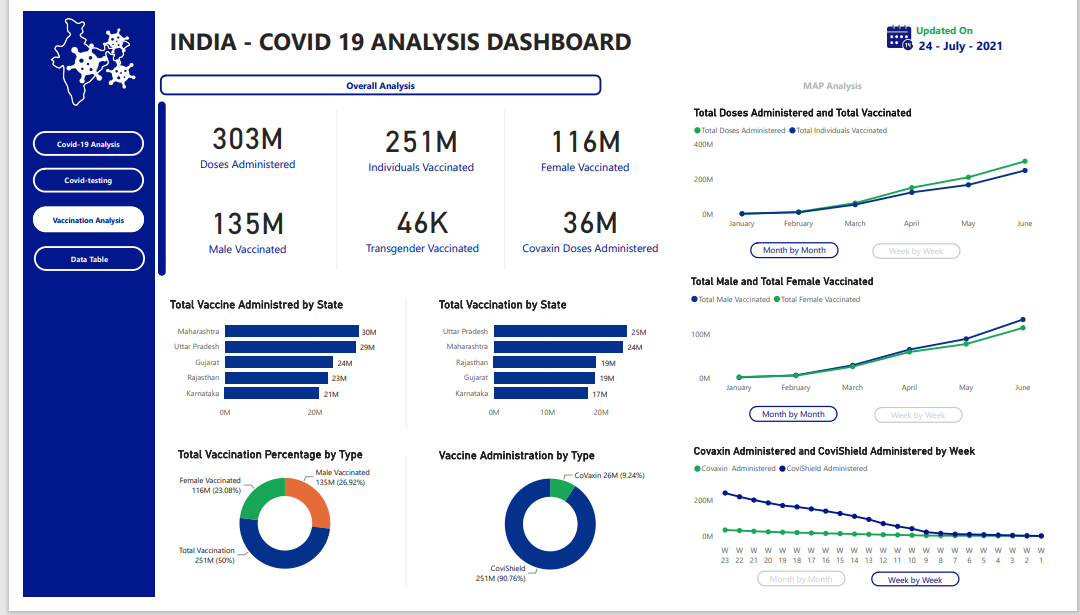

What the dashboard file says about the page in this screenshot:
{"tool":"powerbi","page":{"name":"CovidVaccineDemo1","canvas":[1664,936],"ordinal":2},"visuals":[{"type":"shape","box":[0,0,211,936],"z":0},{"type":"image","box":[57.8,13.2,135.7,126],"z":0,"group":"g1"},{"type":"actionButton","title":"TDoseW-Inactive","box":[1357.9,371.2,141.3,25.4],"z":0,"group":"g3"},{"type":"actionButton","title":"CovidVaccinebtn-M1","box":[1162.3,633.2,141.4,25.7],"z":0,"group":"g6"},{"type":"image","box":[24.6,3.3,167.4,155.7],"z":1000,"group":"g1"},{"type":"actionButton","title":"TotalVaacineW-Iactive","box":[1163,370.6,141.4,25.7],"z":1000,"group":"g2"},{"type":"actionButton","title":"VaccineM-W-Inactive","box":[1362.6,634,141.4,25.7],"z":1000,"group":"g7"},{"type":"actionButton","title":"Covxin-Inactive","box":[1174.6,896,141.4,25.4],"z":1000,"group":"g4"},{"type":"actionButton","title":"CovxinW-Active","box":[1357.1,896.3,141.3,23.8],"z":1000,"group":"g5"},{"type":"shape","box":[218.8,0,1435.9,93.8],"z":4000},{"type":"shape","box":[218.8,142.2,823.4,284.4],"z":6000},{"type":"shape","box":[1056.2,142.2,598.4,262.5],"z":7000},{"type":"shape","box":[1056.2,412.5,598.4,257.8],"z":8000},{"type":"shape","box":[1057.8,678.1,596.9,257.8],"z":9000},{"type":"shape","box":[218,441,824.6,495.1],"z":10000},{"type":"card","fields":{"Values":["Sum(covid_vaccine_statewise.Total Doses Administered)"]},"box":[229.5,149.2,259,121.3],"z":11000},{"type":"card","fields":{"Values":["Sum(covid_vaccine_statewise.Total Individuals Vaccinated)"]},"box":[517.5,159.4,239.7,111.1],"z":12000},{"type":"card","fields":{"Values":["Sum(covid_vaccine_statewise.Female(Individuals Vaccinated))"]},"box":[782,159,234.4,111.5],"z":13000},{"type":"card","fields":{"Values":["Sum(covid_vaccine_statewise.Transgender(Individuals Vaccinated))"]},"box":[518,283.6,244.3,119.7],"z":14000},{"type":"card","fields":{"Values":["Sum(covid_vaccine_statewise.Male(Individuals Vaccinated))"]},"box":[230.2,282.5,258.7,127],"z":15000},{"type":"clusteredBarChart","fields":{"Category":["covid_vaccine_statewise.State"],"Y":["Vaccine Measure.Total Vaccine Administred"]},"box":[229.5,459,352.5,201.6],"z":16000},{"type":"clusteredBarChart","fields":{"Category":["covid_vaccine_statewise.State"],"Y":["Vaccine Measure.Total Vaccination"]},"box":[660.7,459,355.7,201.6],"z":17000},{"type":"donutChart","title":"Total Vaccination Percentage  by  Type","fields":{"Y":["Sum(covid_vaccine_statewise.Male(Individuals Vaccinated))","Vaccine Measure.Total Vaccination","Sum(covid_vaccine_statewise.Female(Individuals Vaccinated))"]},"box":[242.6,698.4,352.5,221.3],"z":18000},{"type":"donutChart","title":"Vaccine Administration by Type","fields":{"Y":["Sum(covid_vaccine_statewise. Covaxin (Doses Administered))","Sum(covid_vaccine_statewise.CoviShield (Doses Administered))"]},"box":[660.3,700,366.7,220.6],"z":19000},{"type":"card","fields":{"Values":["Sum(covid_vaccine_statewise. Covaxin (Doses Administered))"]},"box":[782.5,281,250.8,127],"z":20000},{"type":"lineChart","title":"Total Doses Administered and Total Vaccinated","fields":{"Category":["covid_vaccine_statewise.Updated On.Variation.Date Hierarchy.Month"],"Y":["Sum(covid_vaccine_statewise.Total Doses Administered)","Sum(covid_vaccine_statewise.Total Individuals Vaccinated)"]},"box":[1068.3,152.4,576.2,206.3],"z":21000},{"type":"lineChart","title":"Total Male and Total Female  Vaccinated","fields":{"Category":["covid_vaccine_statewise.Updated On.Variation.Date Hierarchy.Month"],"Y":["Sum(covid_vaccine_statewise.Male(Individuals Vaccinated))","Sum(covid_vaccine_statewise.Female(Individuals Vaccinated))"]},"box":[1063.5,422.2,577.8,198.4],"z":22000},{"type":"actionButton","box":[15.9,192.1,177.8,39.7],"z":24000},{"type":"actionButton","box":[15.9,250.8,177.8,39.7],"z":25000},{"type":"actionButton","box":[15.9,312.7,177.8,41.3],"z":26000},{"type":"actionButton","box":[17.5,376.2,177.8,39.7],"z":27000},{"type":"shape","box":[215.9,144.4,12.7,279.4],"z":28000},{"type":"shape","box":[455.7,157.4,93.4,257.4],"z":29000},{"type":"shape","box":[723.8,157.1,93.7,257.1],"z":30000},{"type":"shape","box":[566.7,458.7,93.7,211.1],"z":31000},{"type":"shape","box":[566.7,711.1,93.7,211.1],"z":32000},{"type":"lineChart","fields":{"Category":["covid_vaccine_statewise.WeekNumber"],"Y":["Sum(covid_vaccine_statewise. Covaxin (Doses Administered))","Sum(covid_vaccine_statewise.CoviShield (Doses Administered))"]},"box":[1068.3,693.7,576.2,201.6],"z":33000},{"type":"image","box":[1377,14.8,50.8,57.4],"z":36000},{"type":"actionButton","title":"M-Inactive","box":[936.5,100.8,717.5,33.3],"z":36500},{"type":"actionButton","title":"O-Active","box":[219,100.8,706.3,33.3],"z":36750},{"type":"textbox","box":[229.5,11.5,882,67.2],"z":37000},{"type":"group","id":"g1","title":"Group 1","box":[24.6,3.3,167.2,155.7],"z":38000},{"type":"group","id":"g2","title":"VaccineIndiviualbtn","box":[1163,370.3,141.7,26],"z":40000},{"type":"group","id":"g3","title":"TDoseWbtn","box":[1357.9,370.3,142.2,26.3],"z":41000},{"type":"group","id":"g4","title":"CovixinW-Active","box":[1174.6,896,141.5,26],"z":42000},{"type":"group","id":"g5","title":"CoxinWbtn","box":[1357.1,894.7,141.3,27],"z":43000},{"type":"group","id":"g6","title":"VaccineMale","box":[1161.7,632.5,142,26.4],"z":44000},{"type":"group","id":"g7","title":"VaxinMaleWbtn","box":[1361.9,634,142.1,25.7],"z":45000},{"type":"textbox","box":[1423.8,14.3,144.4,39.7],"z":45001},{"type":"textbox","box":[1407.9,38.1,200,36.5],"z":45002}]}

Visuals, with their boxes in screenshot pixels (x1, y1, x2, y2), scaled from the page's 1664x936 canvas onto the 1080x615 screenshot:
shape: box=[0, 0, 137, 614]
image: box=[38, 9, 126, 91]
"TDoseW-Inactive" actionButton: box=[881, 244, 973, 261]
"CovidVaccinebtn-M1" actionButton: box=[754, 416, 846, 433]
image: box=[16, 2, 125, 104]
"TotalVaacineW-Iactive" actionButton: box=[755, 244, 847, 260]
"VaccineM-W-Inactive" actionButton: box=[884, 417, 976, 433]
"Covxin-Inactive" actionButton: box=[762, 589, 854, 605]
"CovxinW-Active" actionButton: box=[881, 589, 973, 605]
shape: box=[142, 0, 1074, 62]
shape: box=[142, 93, 676, 280]
shape: box=[686, 93, 1074, 266]
shape: box=[686, 271, 1074, 440]
shape: box=[687, 446, 1074, 614]
shape: box=[141, 290, 677, 614]
card - Sum(covid_vaccine_statewise.Total Doses Administered): box=[149, 98, 317, 178]
card - Sum(covid_vaccine_statewise.Total Individuals Vaccinated): box=[336, 105, 491, 178]
card - Sum(covid_vaccine_statewise.Female(Individuals Vaccinated)): box=[508, 104, 660, 178]
card - Sum(covid_vaccine_statewise.Transgender(Individuals Vaccinated)): box=[336, 186, 495, 265]
card - Sum(covid_vaccine_statewise.Male(Individuals Vaccinated)): box=[149, 186, 317, 269]
clusteredBarChart - covid_vaccine_statewise.State x Vaccine Measure.Total Vaccine Administred: box=[149, 302, 378, 434]
clusteredBarChart - covid_vaccine_statewise.State x Vaccine Measure.Total Vaccination: box=[429, 302, 660, 434]
"Total Vaccination Percentage  by  Type" donutChart: box=[157, 459, 386, 604]
"Vaccine Administration by Type" donutChart: box=[429, 460, 667, 605]
card - Sum(covid_vaccine_statewise. Covaxin (Doses Administered)): box=[508, 185, 671, 268]
"Total Doses Administered and Total Vaccinated" lineChart: box=[693, 100, 1067, 236]
"Total Male and Total Female  Vaccinated" lineChart: box=[690, 277, 1065, 408]
actionButton: box=[10, 126, 126, 152]
actionButton: box=[10, 165, 126, 191]
actionButton: box=[10, 205, 126, 233]
actionButton: box=[11, 247, 127, 273]
shape: box=[140, 95, 148, 278]
shape: box=[296, 103, 356, 273]
shape: box=[470, 103, 531, 272]
shape: box=[368, 301, 429, 440]
shape: box=[368, 467, 429, 606]
lineChart - covid_vaccine_statewise.WeekNumber x Sum(covid_vaccine_statewise. Covaxin (Doses Administered)): box=[693, 456, 1067, 588]
image: box=[894, 10, 927, 47]
"M-Inactive" actionButton: box=[608, 66, 1074, 88]
"O-Active" actionButton: box=[142, 66, 601, 88]
textbox: box=[149, 8, 721, 52]
"Group 1" group: box=[16, 2, 124, 104]
"VaccineIndiviualbtn" group: box=[755, 243, 847, 260]
"TDoseWbtn" group: box=[881, 243, 974, 261]
"CovixinW-Active" group: box=[762, 589, 854, 606]
"CoxinWbtn" group: box=[881, 588, 973, 606]
"VaccineMale" group: box=[754, 416, 846, 433]
"VaxinMaleWbtn" group: box=[884, 417, 976, 433]
textbox: box=[924, 9, 1018, 35]
textbox: box=[914, 25, 1044, 49]
